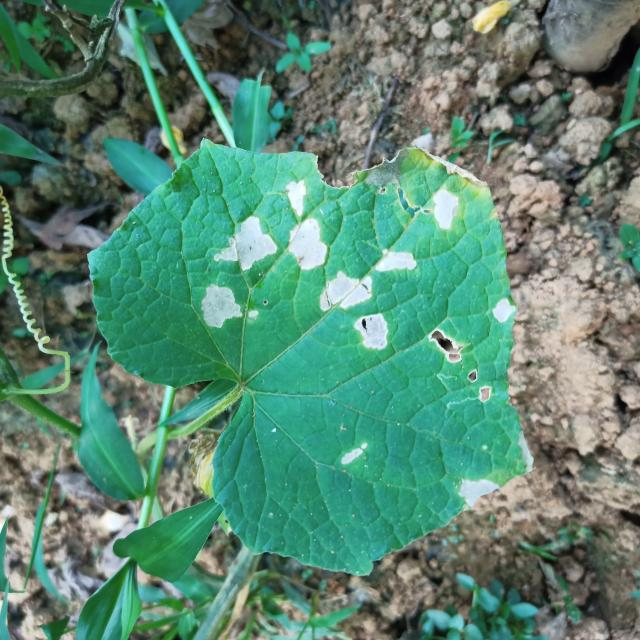disease_cucumber: (320, 272, 390, 350), (431, 330, 491, 403), (284, 179, 328, 273), (214, 216, 277, 274), (199, 282, 262, 330), (374, 247, 418, 274), (458, 478, 499, 506), (433, 188, 460, 230), (493, 298, 515, 324), (342, 443, 368, 464)
